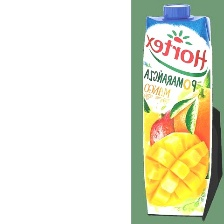carton: (137, 3, 216, 220)
